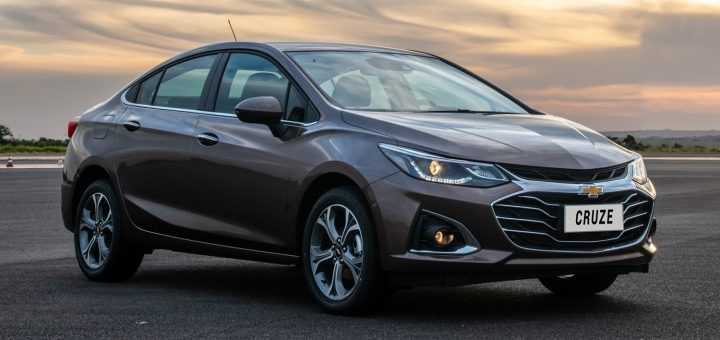car: (60, 40, 658, 315)
